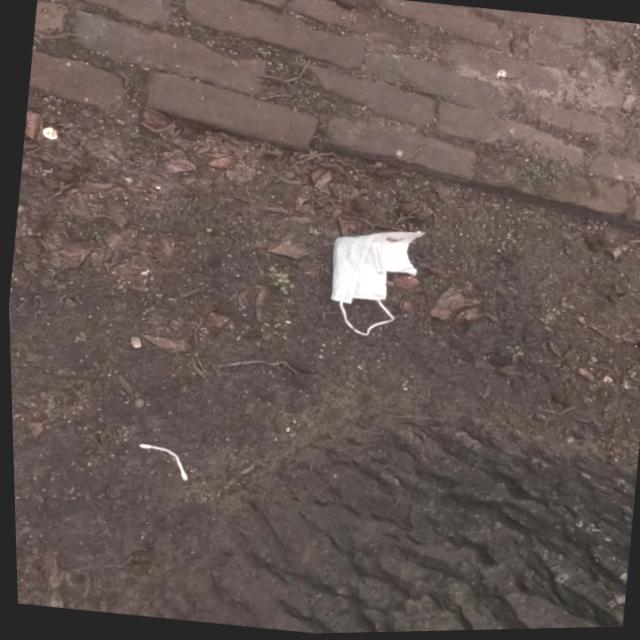Mask: (319, 219, 429, 344)
